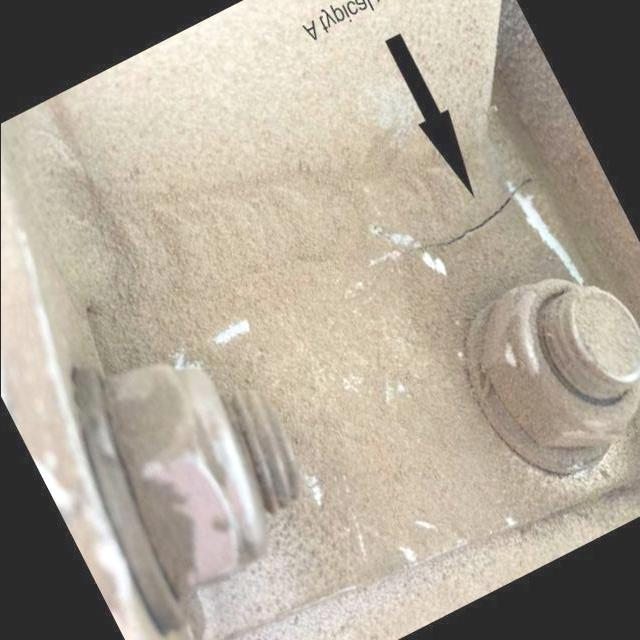defect: (384, 172, 535, 265)
